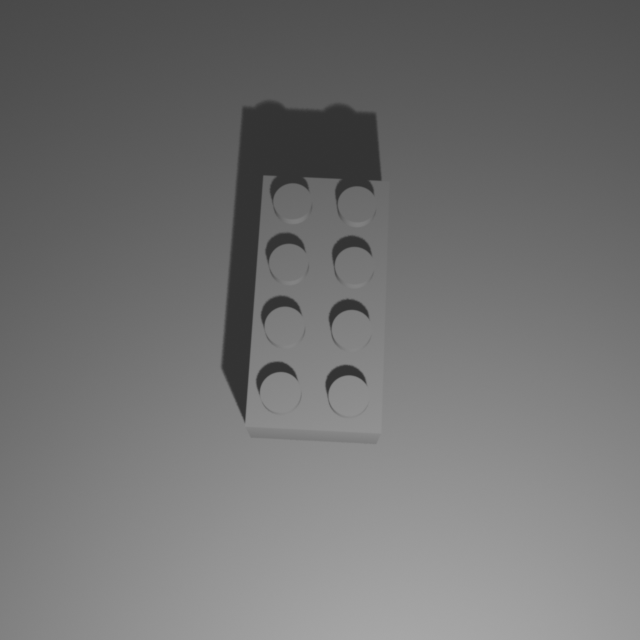lego_2x4: (244, 170, 391, 444)
